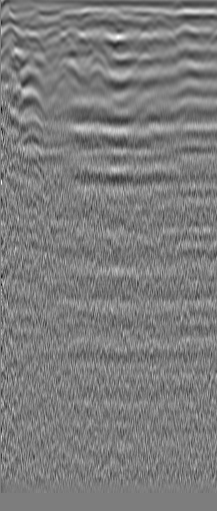오수: (18, 29, 44, 54)
우수: (170, 20, 195, 46)
